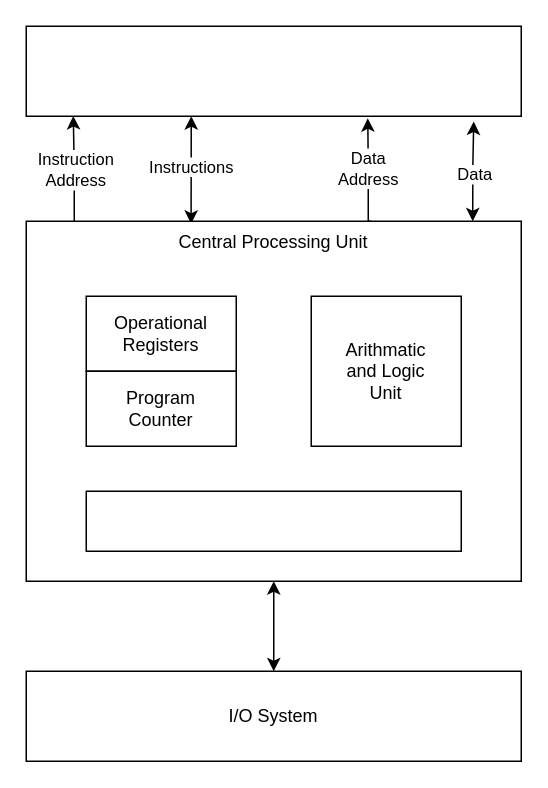
The diagram is 548 pixels wide and 788 high, and some of its shapes have lost their labels. The centre of each missing label's shape, as x and y in pixels:
Control Unit: point 273,520
Main Memory System: point 273,70
